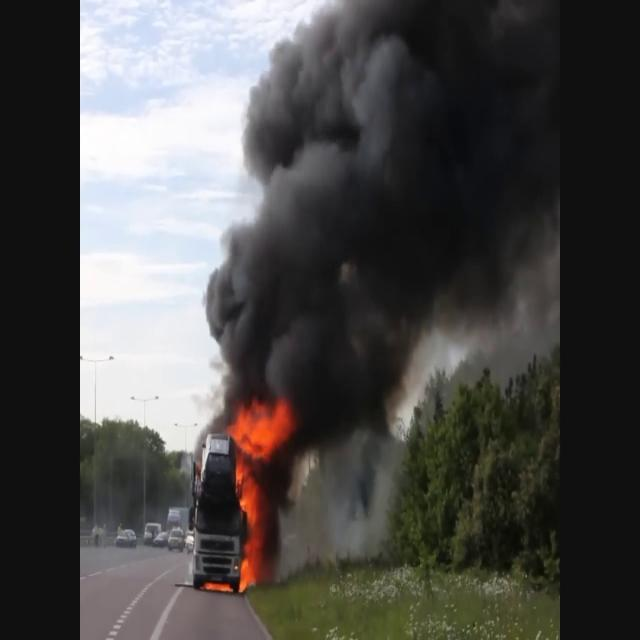Fire: (226, 392, 288, 582)
Smoke: (208, 1, 560, 506)
